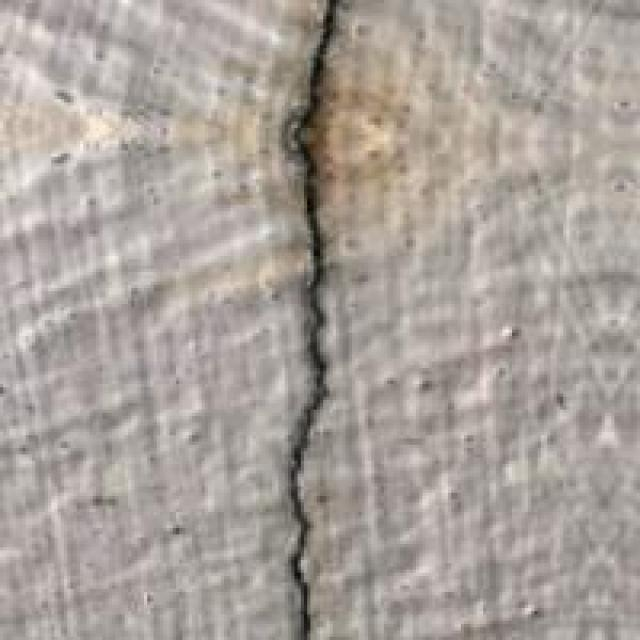crack: (198, 3, 436, 637)
